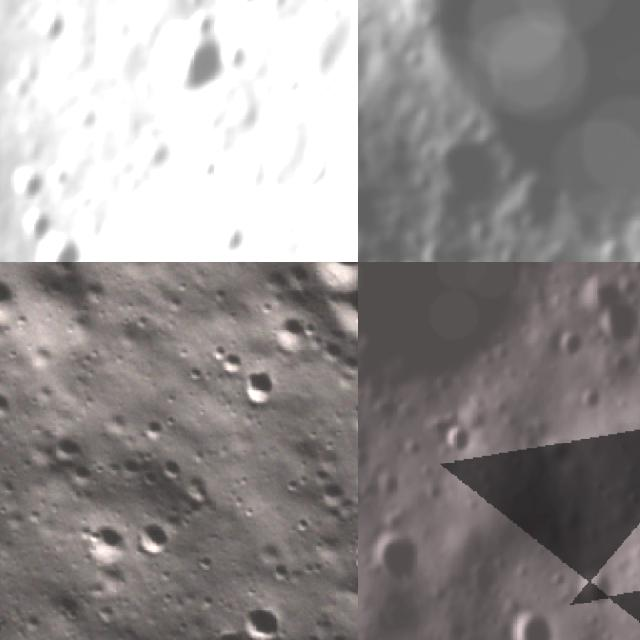crater: (358, 262, 546, 411), (136, 12, 232, 96), (311, 262, 358, 362), (72, 506, 140, 574), (260, 301, 326, 369), (368, 526, 432, 589), (229, 357, 290, 419), (228, 589, 294, 640), (306, 465, 358, 524), (39, 419, 94, 474), (126, 510, 181, 565), (288, 262, 358, 305), (204, 336, 258, 391), (200, 216, 251, 262), (533, 427, 582, 474), (598, 303, 640, 355), (573, 565, 621, 608), (436, 416, 476, 462), (0, 267, 30, 328), (33, 231, 87, 262), (8, 164, 46, 206), (507, 609, 558, 640), (197, 615, 260, 640), (18, 205, 52, 249), (552, 328, 589, 368), (34, 10, 70, 50), (574, 381, 610, 421), (189, 150, 223, 190), (0, 382, 22, 433), (271, 73, 306, 100), (207, 0, 273, 12), (358, 440, 379, 475)
